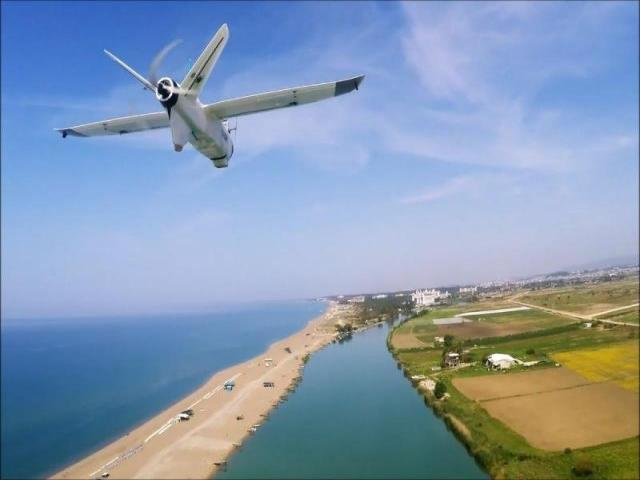hedef: (51, 40, 369, 195)
